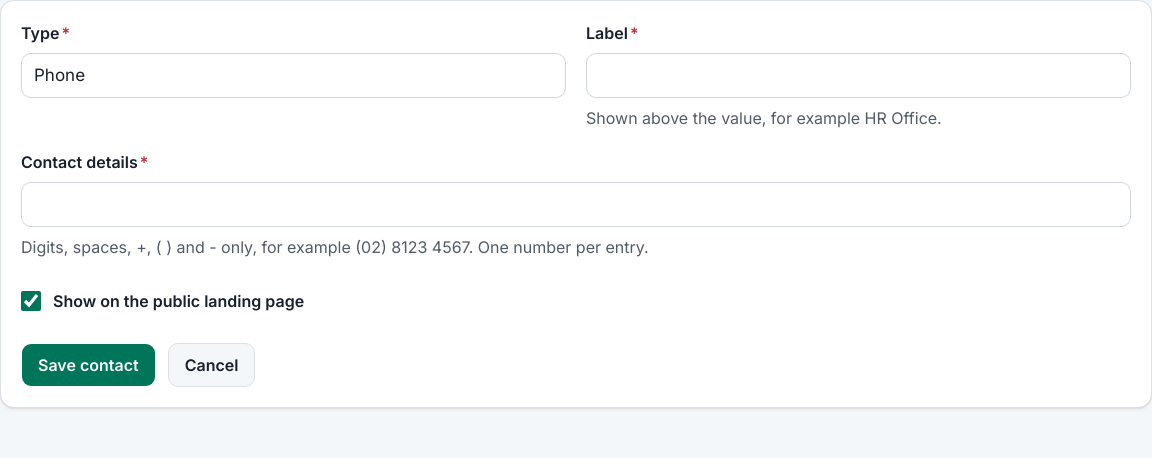
HrContactForm › checks the value against the chosen type before saving
This screenshot has width=1152, height=458.
Select "Email" in the dropdown labelled "Type*" at (294, 76), box [21,53,566,98]
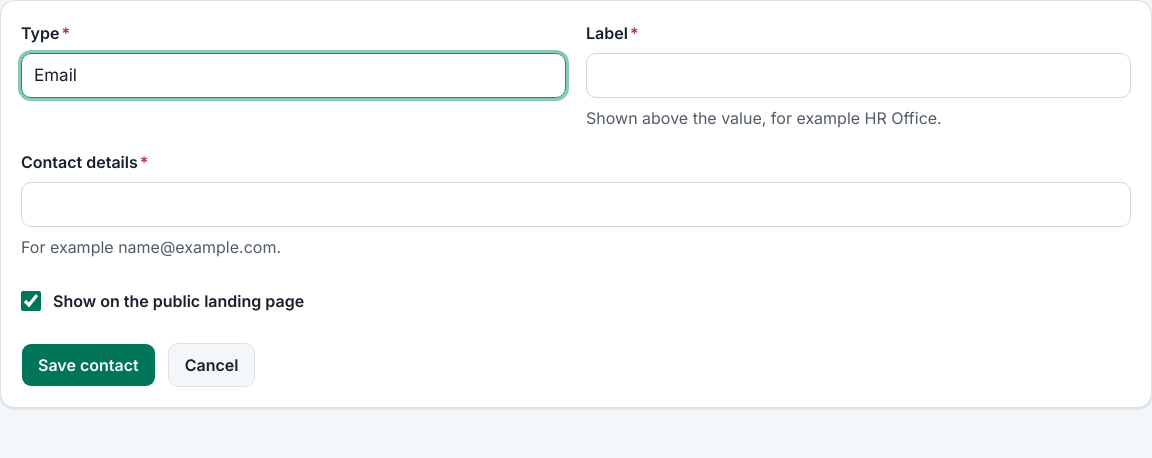
Type "HR email" into the field labelled "Label*" at (858, 76), box [586,53,1131,98]
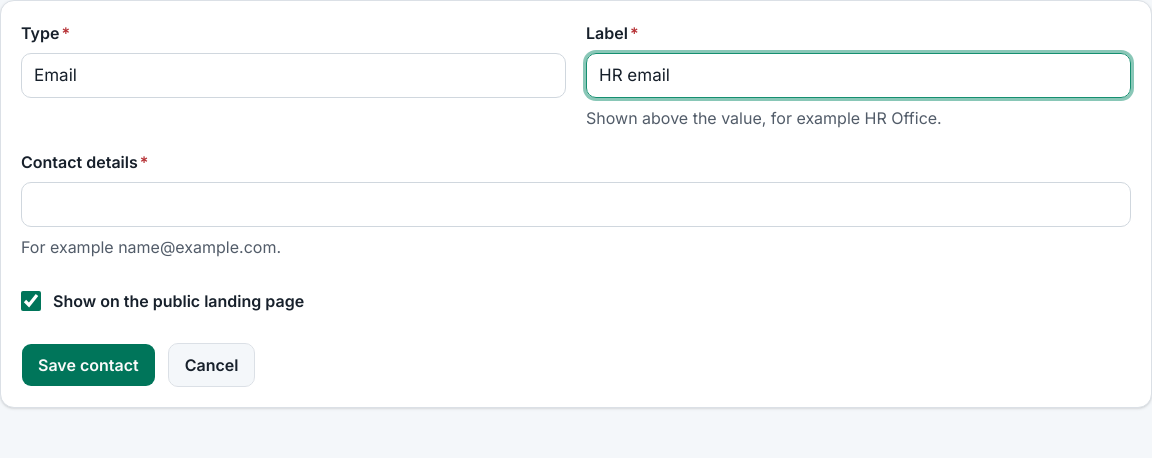
Type "not-an-email" into the field labelled "Contact details*" at (576, 205), box [21,182,1131,227]
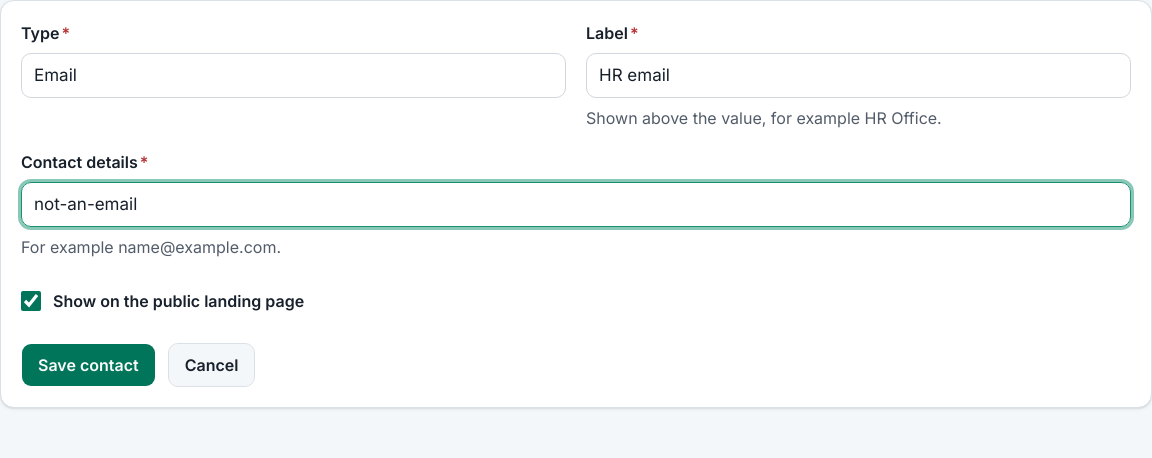
Click the button "Save contact" at (88, 365), box [21,343,156,387]
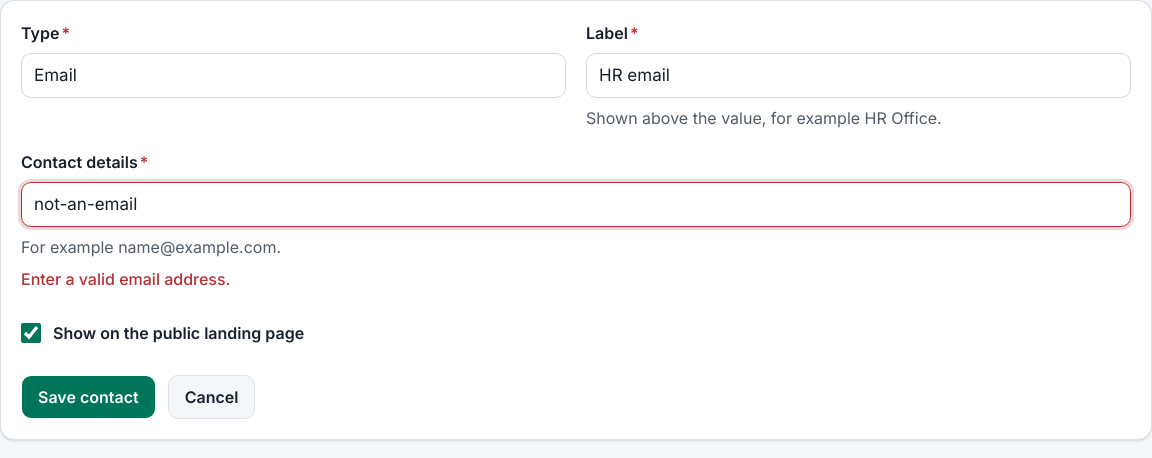
Expected: the text "Enter a valid email address." is shown, [21,269,230,289]
